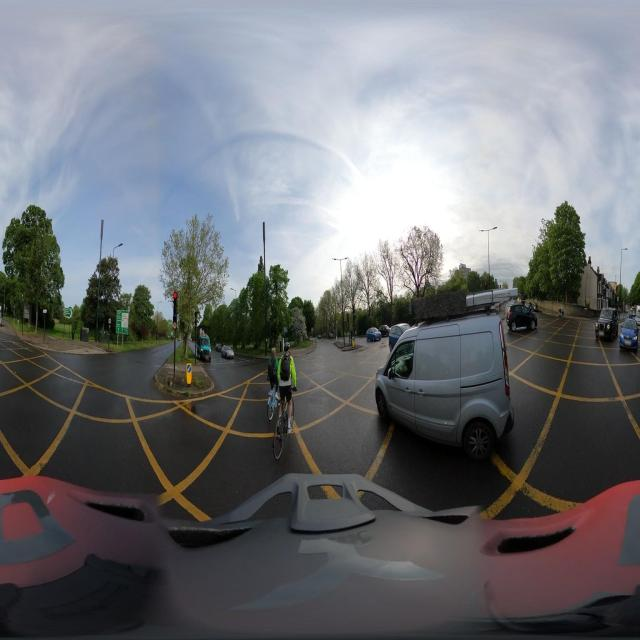bike: (267, 368, 298, 462)
car: (374, 309, 514, 466), (507, 300, 538, 334), (595, 306, 619, 343), (619, 316, 639, 356), (388, 323, 409, 346), (366, 327, 381, 342), (221, 343, 234, 360), (215, 341, 222, 353)
